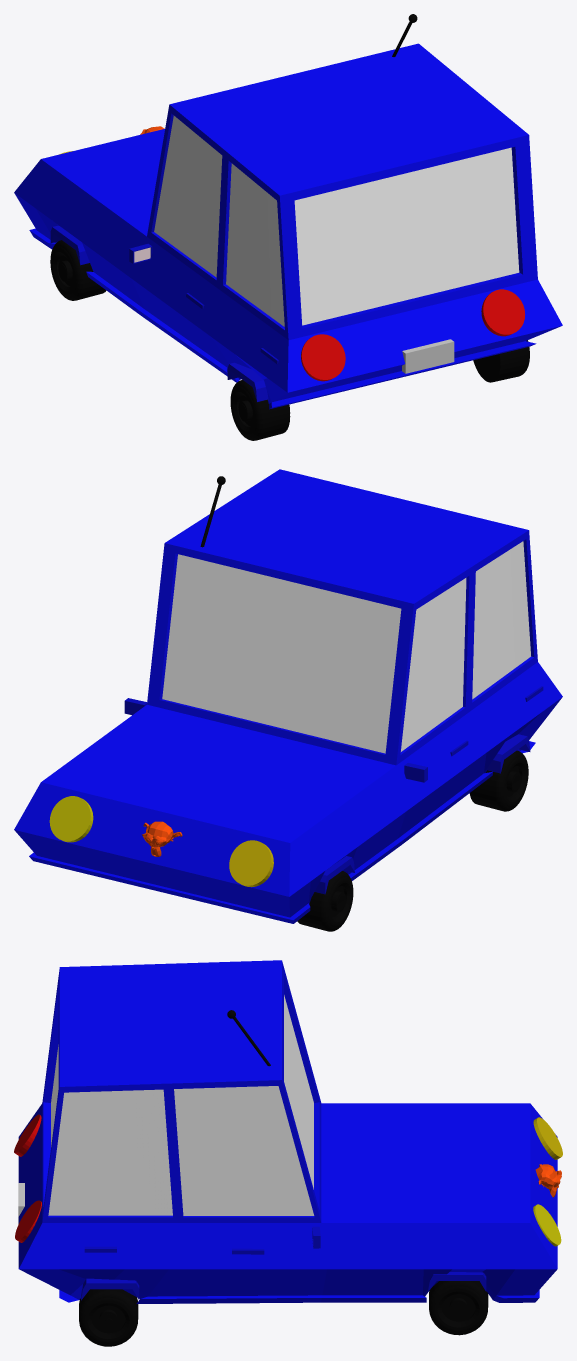
Rendered from 855216Randy.obj.
3 renders of one model, top to bottom at view 1: azimuth 30°, elevation 25°; view 2: azimuth 150°, elevation 25°; view 3: azimuth 270°, elevation 25°, orthographic.
Parts seen in each view (by area): view 1: Cube_Cube.010, Cylinder.002_Cylinder.003, Cylinder.001, Cylinder.008_Cylinder.010, Cylinder.009_Cylinder.011, Cube.007_Cube.006, Cube.003_Cube.002, Cube.001_Cube; view 2: Cube_Cube.010, Cylinder.002_Cylinder.003, Cylinder.001, Cylinder.007_Cylinder.009, Cylinder.006_Cylinder.007, Suzanne_Suzanne.001, Cube.003_Cube.002; view 3: Cube_Cube.010, Cylinder.002_Cylinder.003, Cylinder.001, Cube.004_Cube.003, Cylinder.007_Cylinder.009, Cylinder.006_Cylinder.007, Cylinder.009_Cylinder.011, Cube.002_Cube.001, Suzanne_Suzanne.001, Cylinder.008_Cylinder.010.
Part boxes in pixels (left/top/right/bottom): Cube_Cube.010: left=14, top=43, right=562, bottom=409; Cylinder.002_Cylinder.003: left=230, top=340, right=529, bottom=440; Cylinder.001: left=50, top=240, right=106, bottom=300; Cylinder.008_Cylinder.010: left=301, top=334, right=345, bottom=381; Cylinder.009_Cylinder.011: left=481, top=289, right=525, bottom=336; Cube.007_Cube.006: left=402, top=339, right=454, bottom=373; Cube.003_Cube.002: left=227, top=362, right=268, bottom=401; Cube.001_Cube: left=50, top=225, right=89, bottom=265; Cube_Cube.010: left=14, top=469, right=562, bottom=923; Cylinder.002_Cylinder.003: left=469, top=750, right=528, bottom=811; Cylinder.001: left=297, top=871, right=353, bottom=931; Cylinder.007_Cylinder.009: left=229, top=840, right=273, bottom=887; Cylinder.006_Cylinder.007: left=49, top=796, right=93, bottom=842; Suzanne_Suzanne.001: left=142, top=821, right=182, bottom=856; Cube.003_Cube.002: left=487, top=734, right=530, bottom=773; Cube_Cube.010: left=18, top=960, right=557, bottom=1303; Cylinder.002_Cylinder.003: left=79, top=1289, right=138, bottom=1346; Cylinder.001: left=429, top=1281, right=488, bottom=1335; Cube.004_Cube.003: left=81, top=1278, right=139, bottom=1300; Cylinder.007_Cylinder.009: left=533, top=1117, right=562, bottom=1159; Cylinder.006_Cylinder.007: left=533, top=1204, right=561, bottom=1246; Cylinder.009_Cylinder.011: left=15, top=1200, right=41, bottom=1242; Cube.002_Cube.001: left=428, top=1272, right=486, bottom=1291; Suzanne_Suzanne.001: left=535, top=1164, right=561, bottom=1197; Cylinder.008_Cylinder.010: left=14, top=1114, right=41, bottom=1156.
Bounding box in the file's own units: 30.36 × 31.77 × 49.66.
